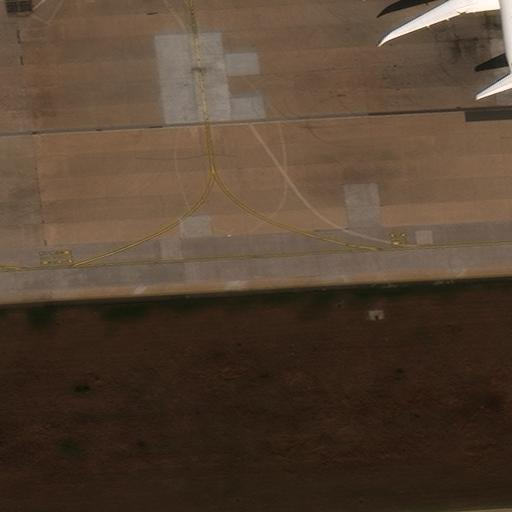Large Civil Transport: (383, 0, 511, 90)
